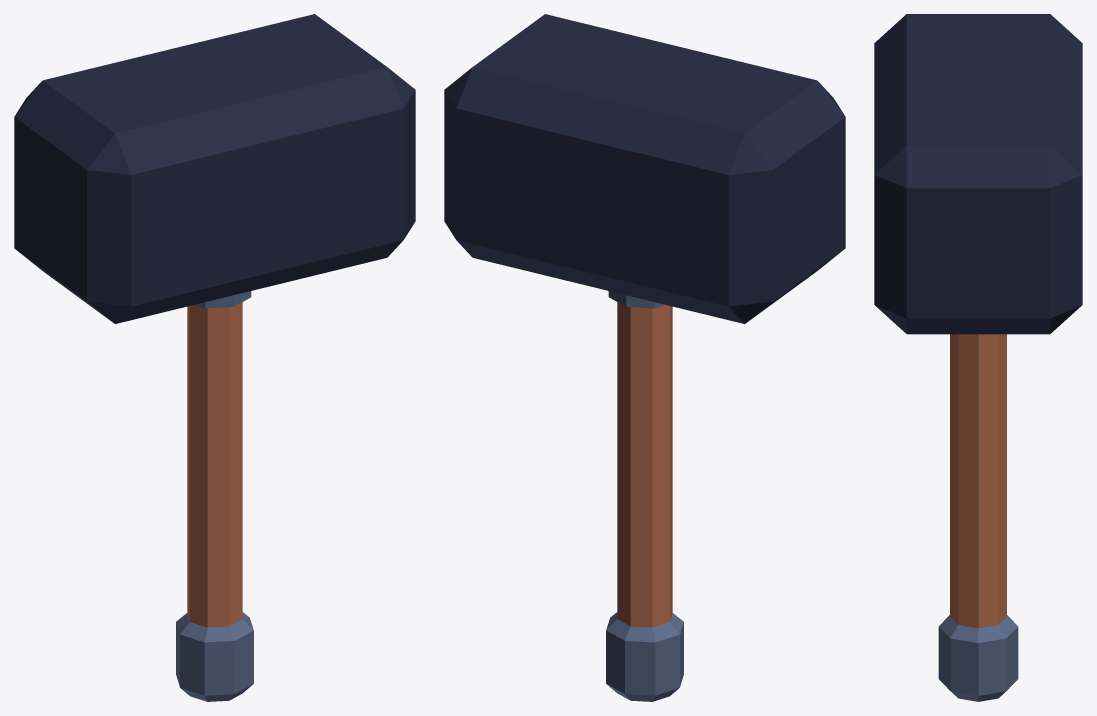
File: Mazo.fbx
3 renders of one model, left to right at view 1: azimuth 30°, elevation 25°; view 2: azimuth 150°, elevation 25°; view 3: azimuth 270°, elevation 25°, orthographic.
Parts seen in each view (by area): view 1: Cylinder; view 2: Cylinder; view 3: Cylinder.
Boxes of the visible parts, bbox=[...] form: Cylinder: bbox=[14, 14, 415, 701]; Cylinder: bbox=[444, 14, 845, 701]; Cylinder: bbox=[874, 14, 1082, 701].
Size of the model in its own units: 27.98 by 50.15 by 15.51.
Materials: 1 (1 with a texture image).
